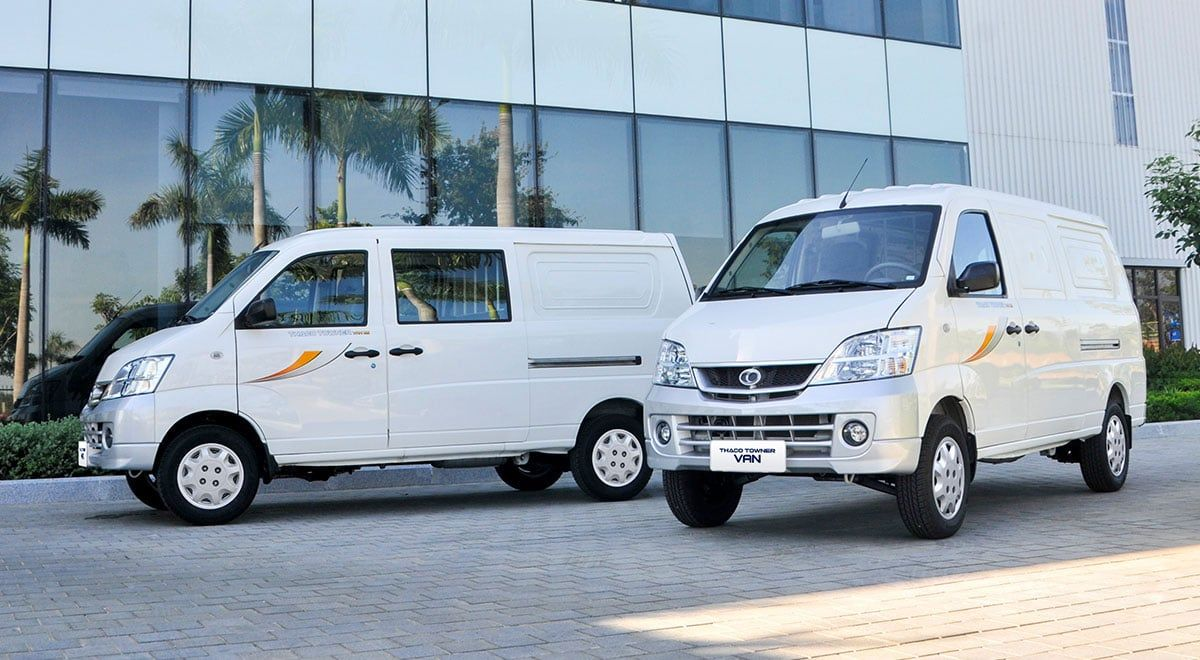xe_van: (70, 219, 723, 524), (645, 179, 1148, 542)
